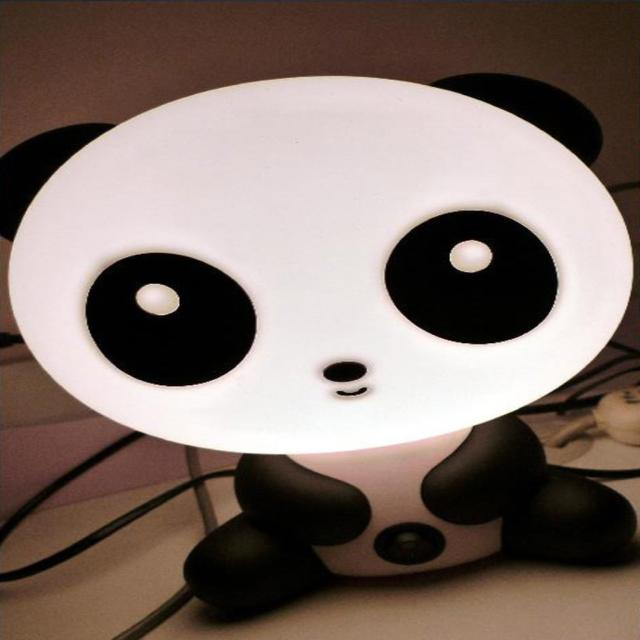panda: (0, 66, 637, 622)
